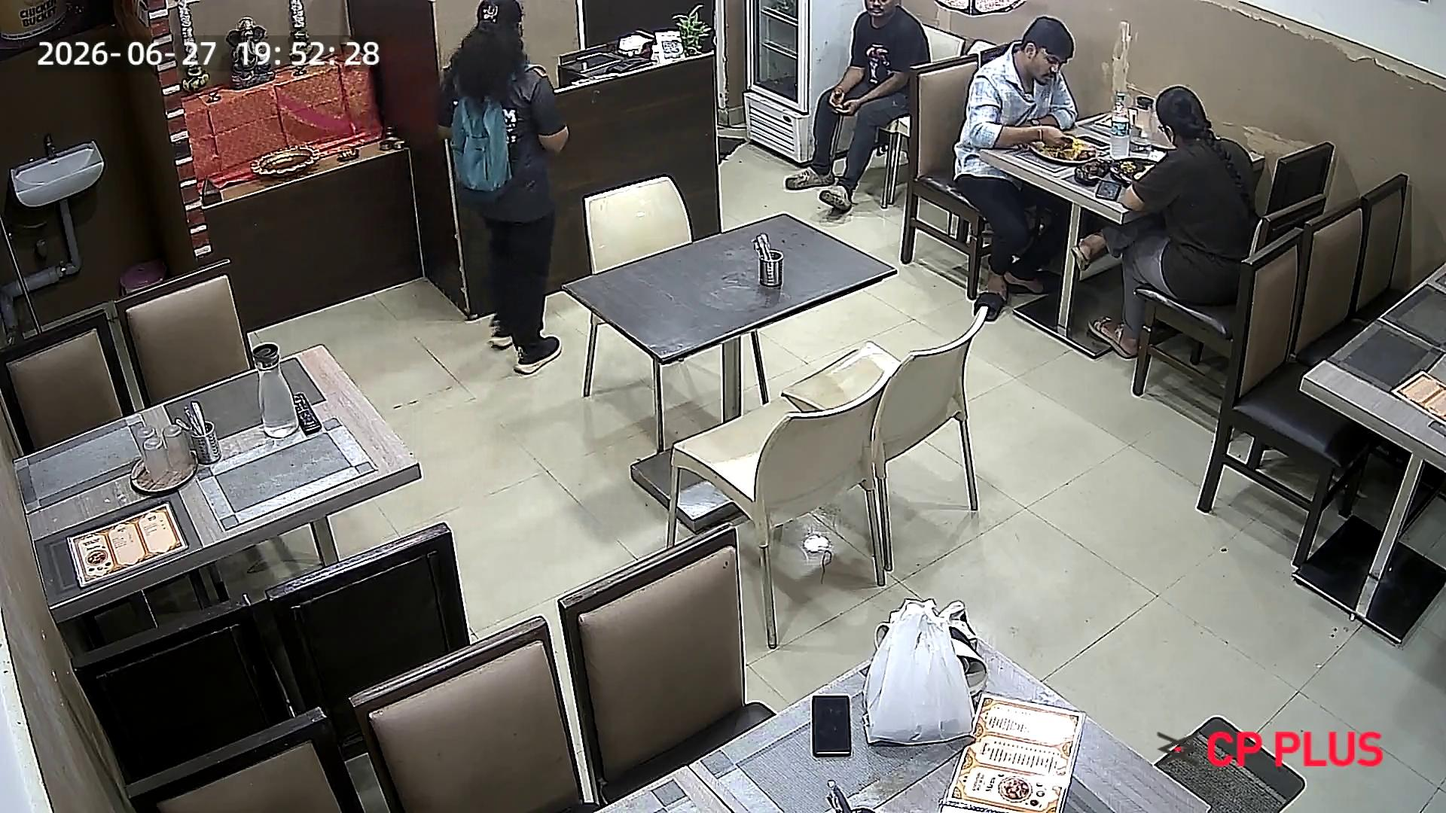clean: (13, 338, 426, 608), (567, 210, 900, 354)
dirty: (677, 621, 1125, 813)
occupied: (968, 59, 1289, 219)
